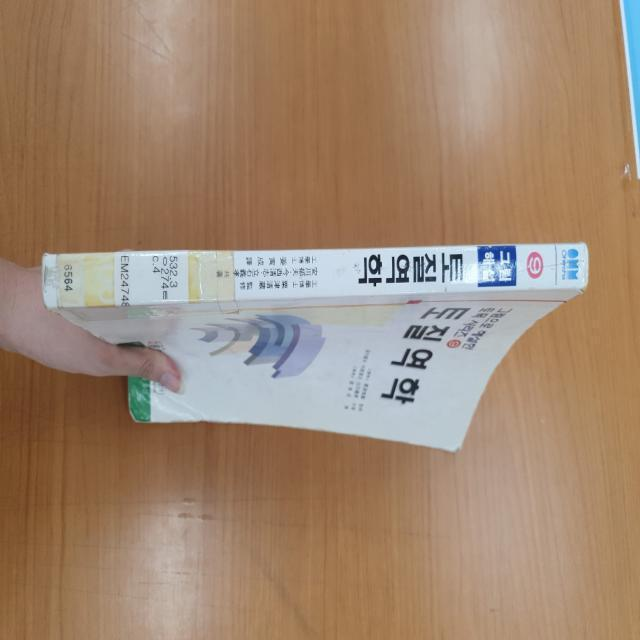Ripped: (571, 283, 591, 297)
Wornout: (124, 392, 154, 427), (35, 249, 50, 311), (578, 238, 590, 283), (485, 242, 495, 250)
